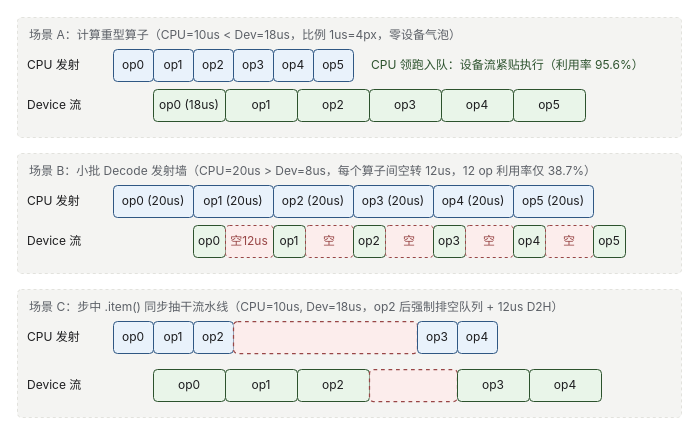
Some shapes in this 699 by 435 pixel diagram are drawn without their labels. The shapes that lost their labels are listed below. From the top down, each one's centre as x and y in pixels, then its label:
At (x=325, y=337): ".item() 等 Device 排空 + D2H（46us CPU 阻塞）".
At (x=413, y=385): "队列排空气泡 22us".
